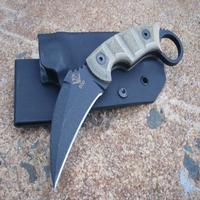knife: (45, 8, 174, 192)
